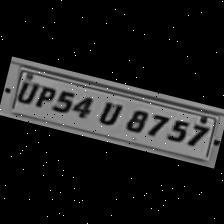4: (67, 90, 96, 121)
5: (162, 113, 190, 144), (48, 84, 75, 114)
7: (142, 108, 168, 140), (182, 118, 208, 150)
8: (119, 102, 151, 136)
P: (30, 80, 54, 109)
U: (92, 94, 124, 128), (9, 73, 38, 105)
